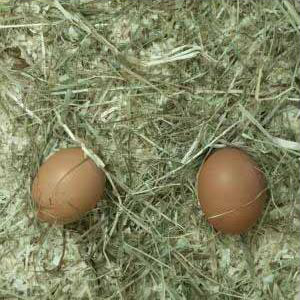egg: (198, 147, 269, 234), (32, 147, 108, 223)
